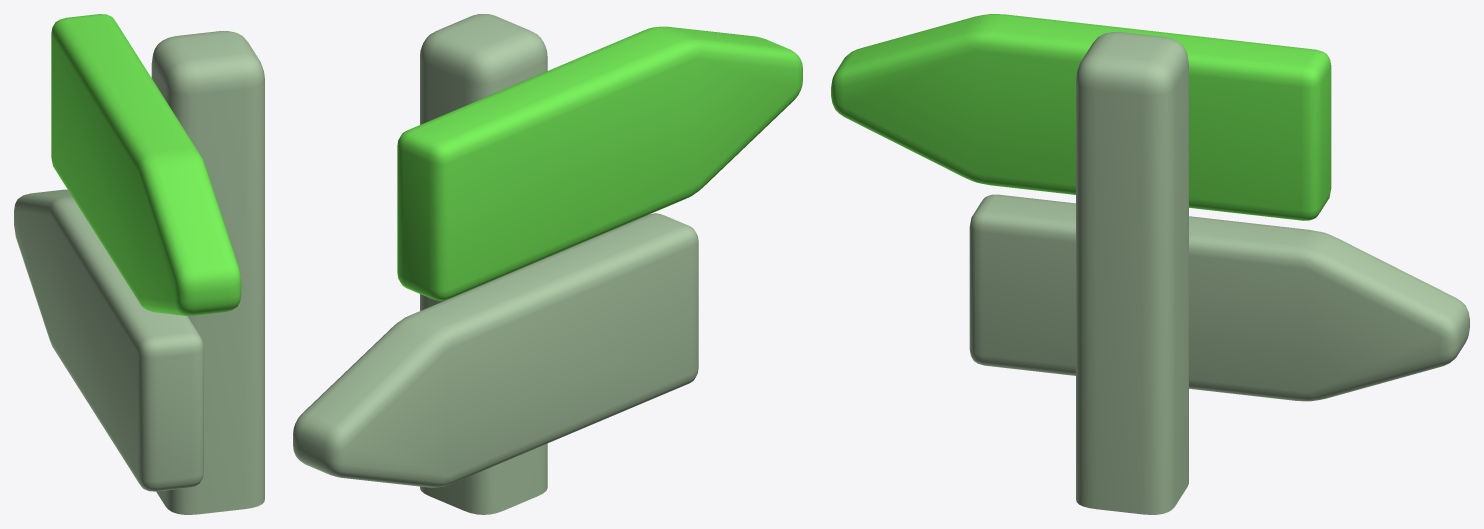
Rendered from trouversonchemin.gltf.
The picture shows the model from 3 angles, left to right: view 1: azimuth 30°, elevation 25°; view 2: azimuth 150°, elevation 25°; view 3: azimuth 270°, elevation 25°; orthographic projection. The views are drawn at different scales.
Parts seen in each view (by area): view 1: Box004, Box003, Box005; view 2: Box004, Box005, Box003; view 3: Box004, Box005, Box003.
Boxes of the visible parts, x1,y1,x2,y2 form: Box004: (51,14,241,315); Box003: (151,31,264,514); Box005: (14,189,203,491); Box004: (397,26,802,300); Box005: (293,213,698,487); Box003: (420,14,547,514); Box004: (831,14,1331,220); Box005: (969,194,1469,401); Box003: (1076,32,1188,514).
Bounding box in the file's own units: 0.0144 × 0.0279 × 0.0365.
